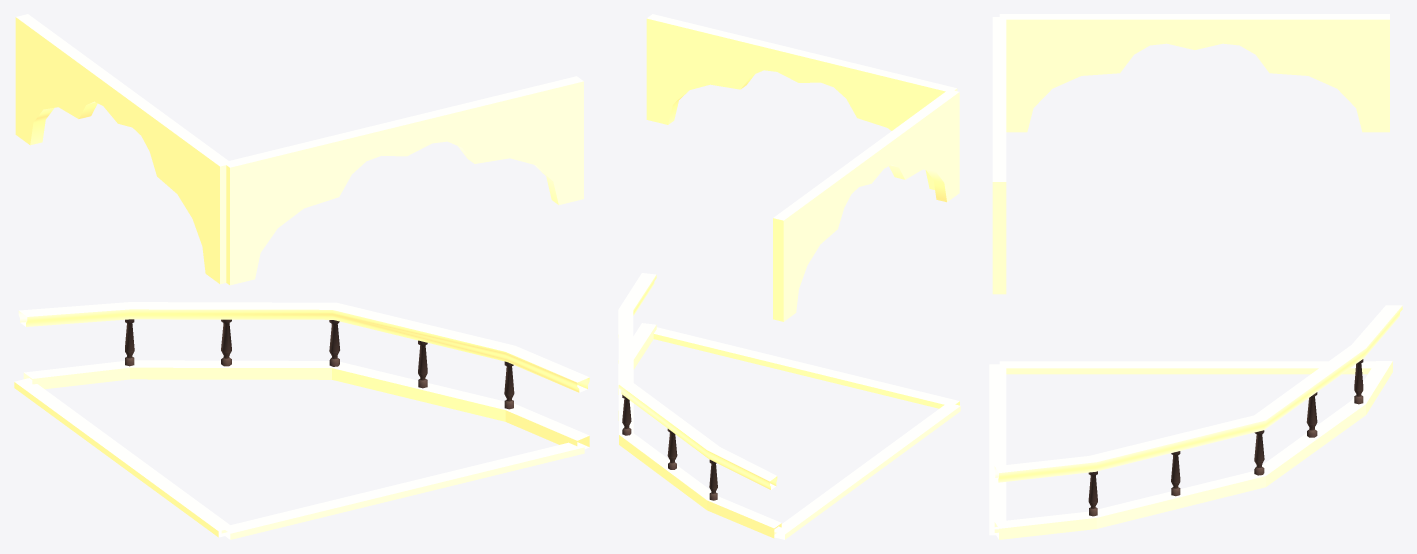
The model's file is Homeworld_Interior_Md_Room_Wall_05_01_Vo.fbx.
3 views of the same model, side by side, from view 1: azimuth 30°, elevation 25°; view 2: azimuth 150°, elevation 25°; view 3: azimuth 270°, elevation 25° (orthographic). The views are drawn at different scales.
Parts seen in each view (by area): view 1: Homeworld_Interior_Md_Room_Wall_05_01_Vo; view 2: Homeworld_Interior_Md_Room_Wall_05_01_Vo; view 3: Homeworld_Interior_Md_Room_Wall_05_01_Vo.
Part boxes in pixels (box(x1,y1,x2,y2)): Homeworld_Interior_Md_Room_Wall_05_01_Vo: box(14, 14, 589, 539); Homeworld_Interior_Md_Room_Wall_05_01_Vo: box(618, 14, 960, 539); Homeworld_Interior_Md_Room_Wall_05_01_Vo: box(989, 14, 1402, 539).
Size of the model in its own units: 5.24 by 5 by 5.29.
